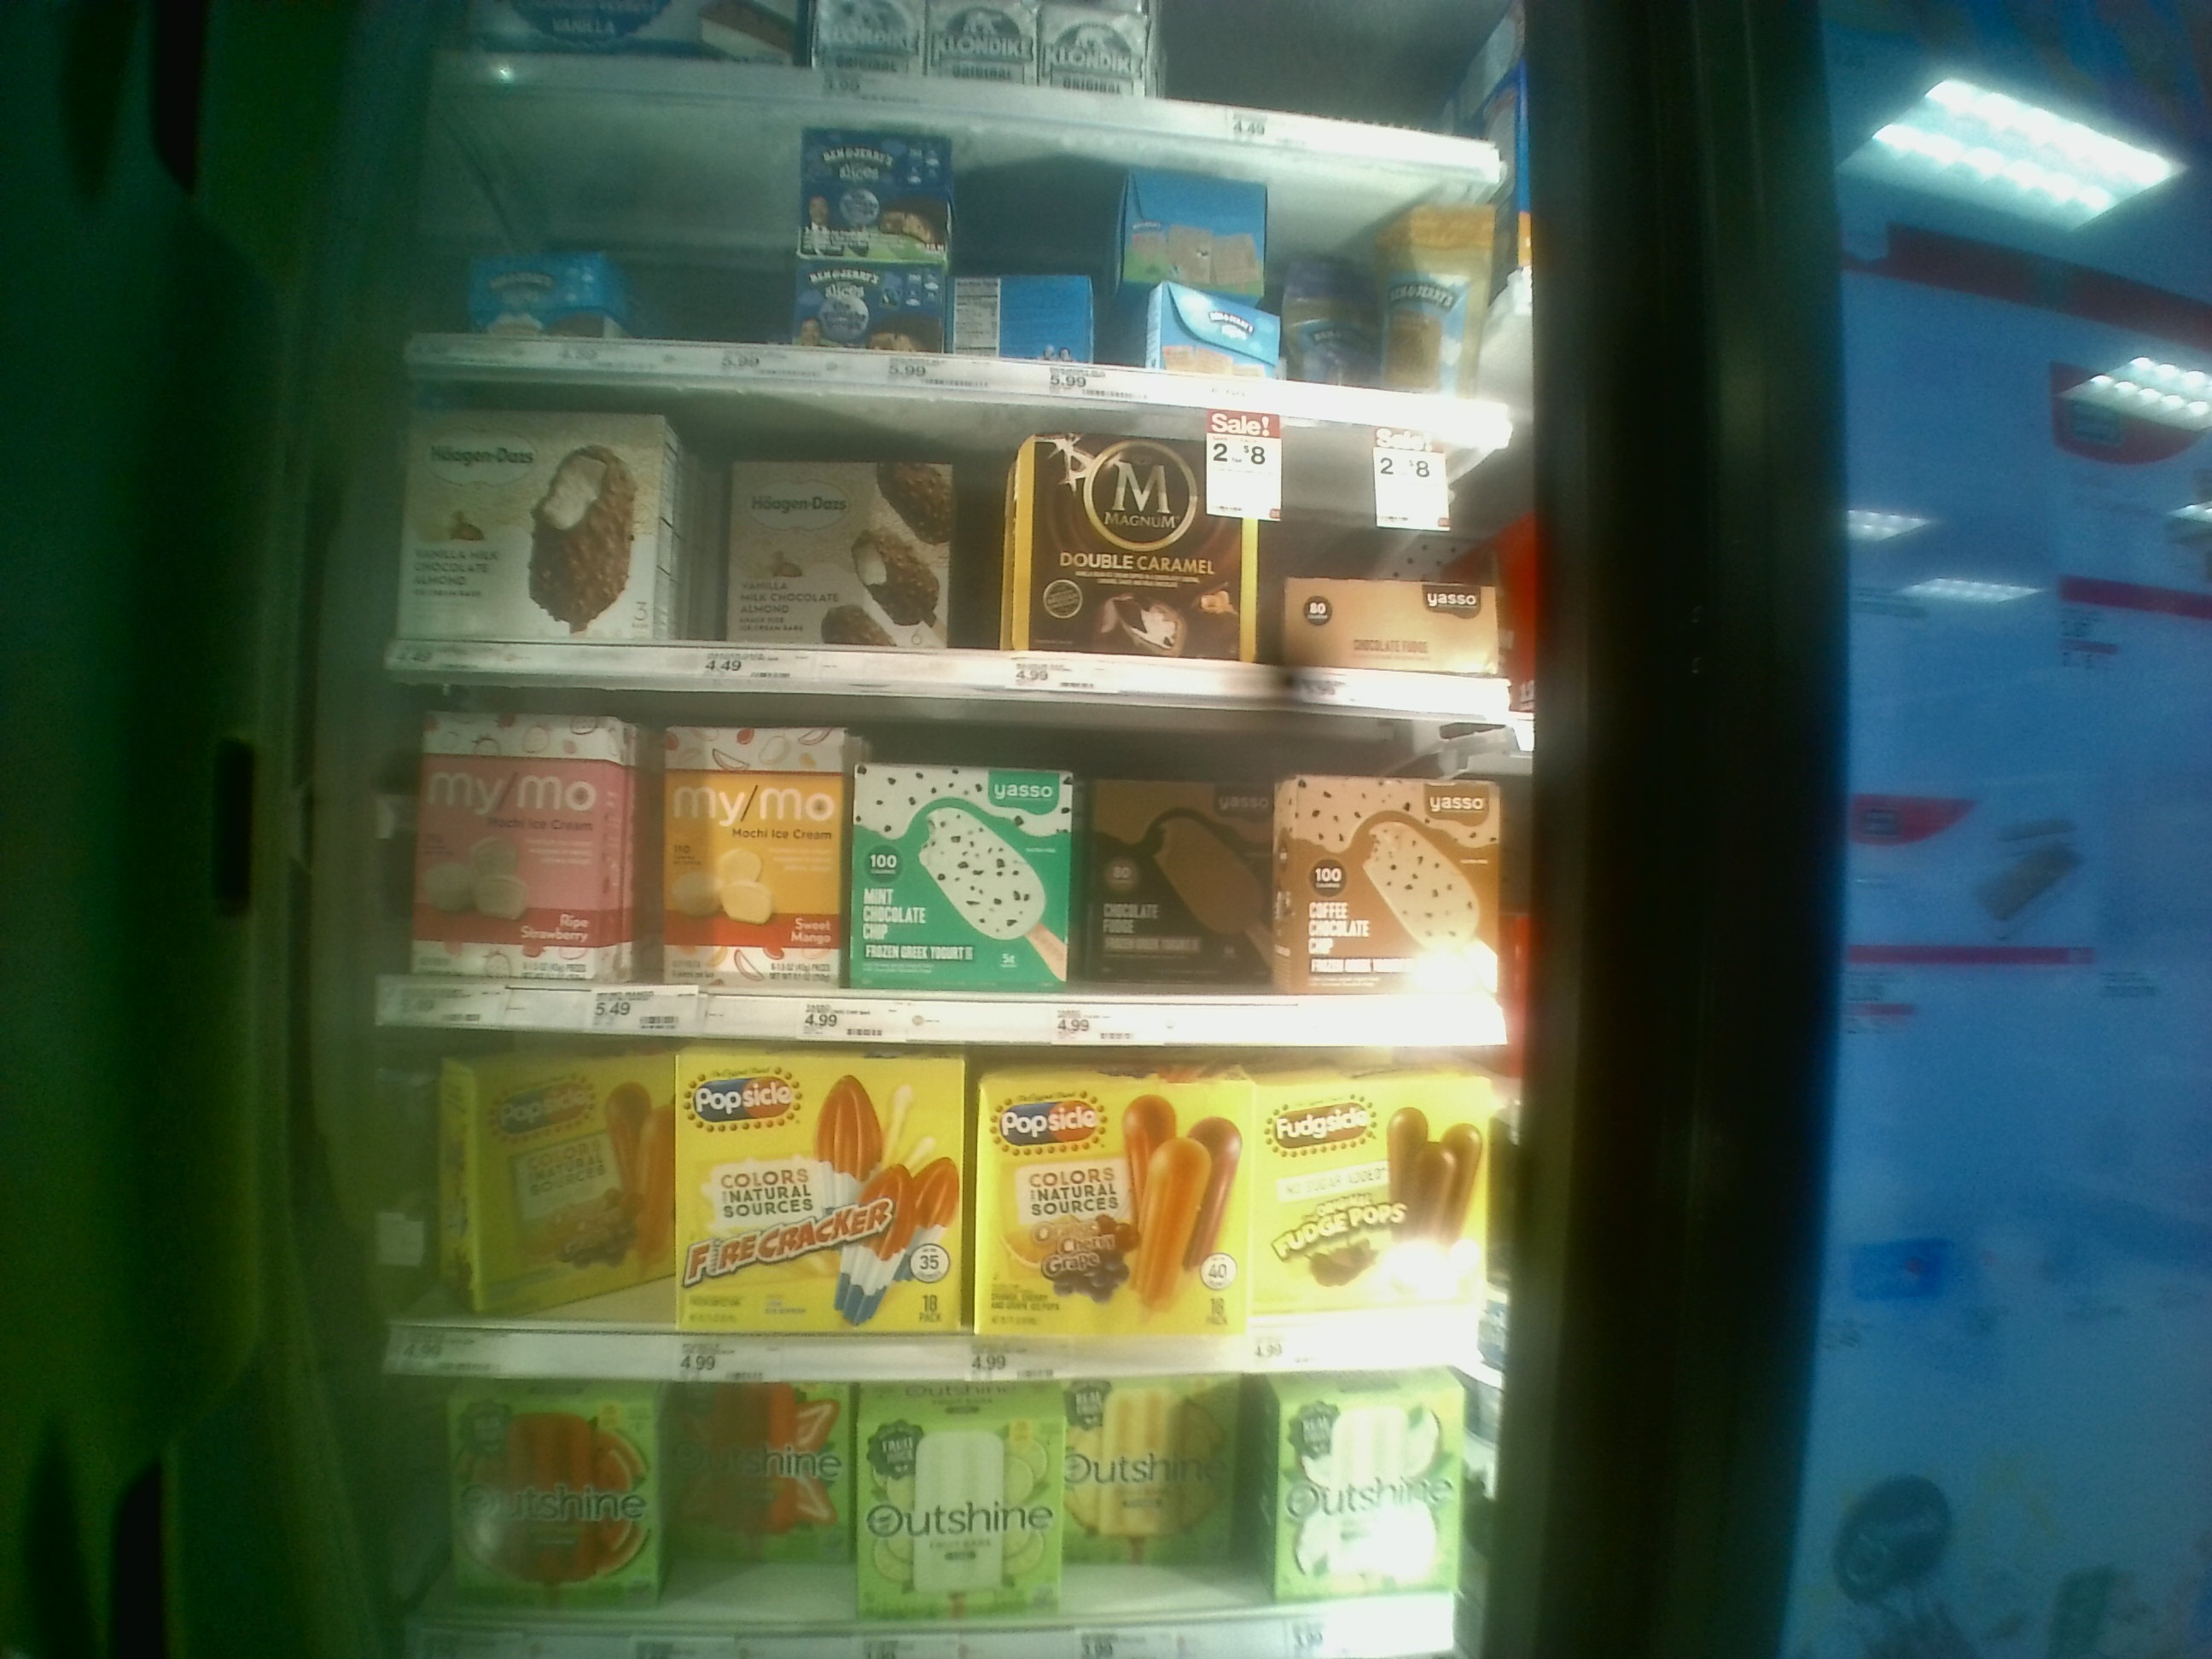shelf: (376, 1028, 1519, 1377), (376, 711, 1541, 1042), (383, 369, 1494, 702), (399, 103, 1521, 425)
